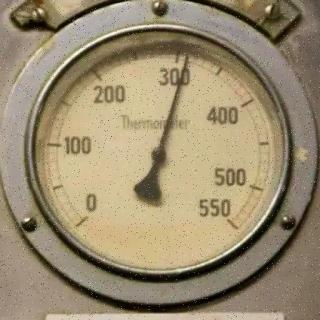gauge: (13, 16, 313, 292), (65, 187, 115, 237), (202, 194, 250, 242), (12, 313, 252, 319), (150, 146, 166, 164), (179, 50, 193, 68)
